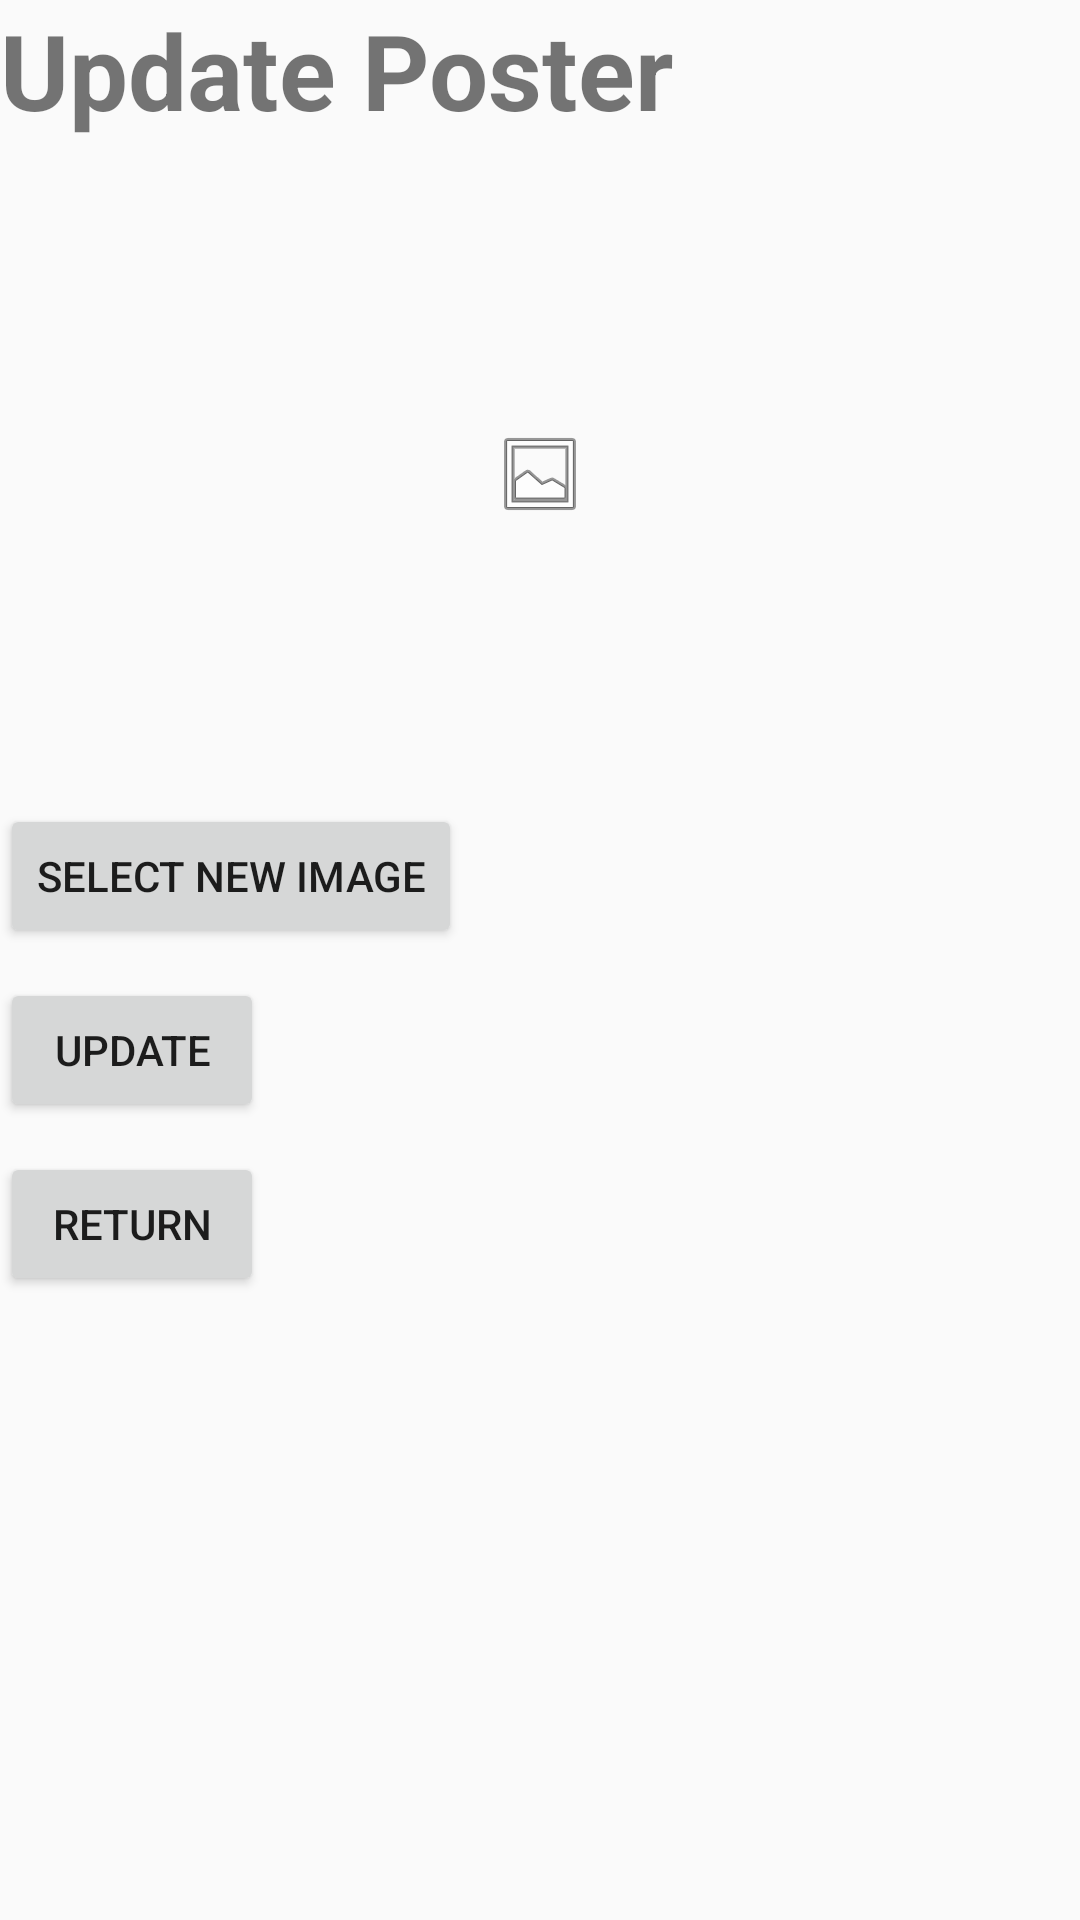

Point at icon controls on the screen. Image size 1080 × 1920, points as (x,y).
gallery: (540,474)
